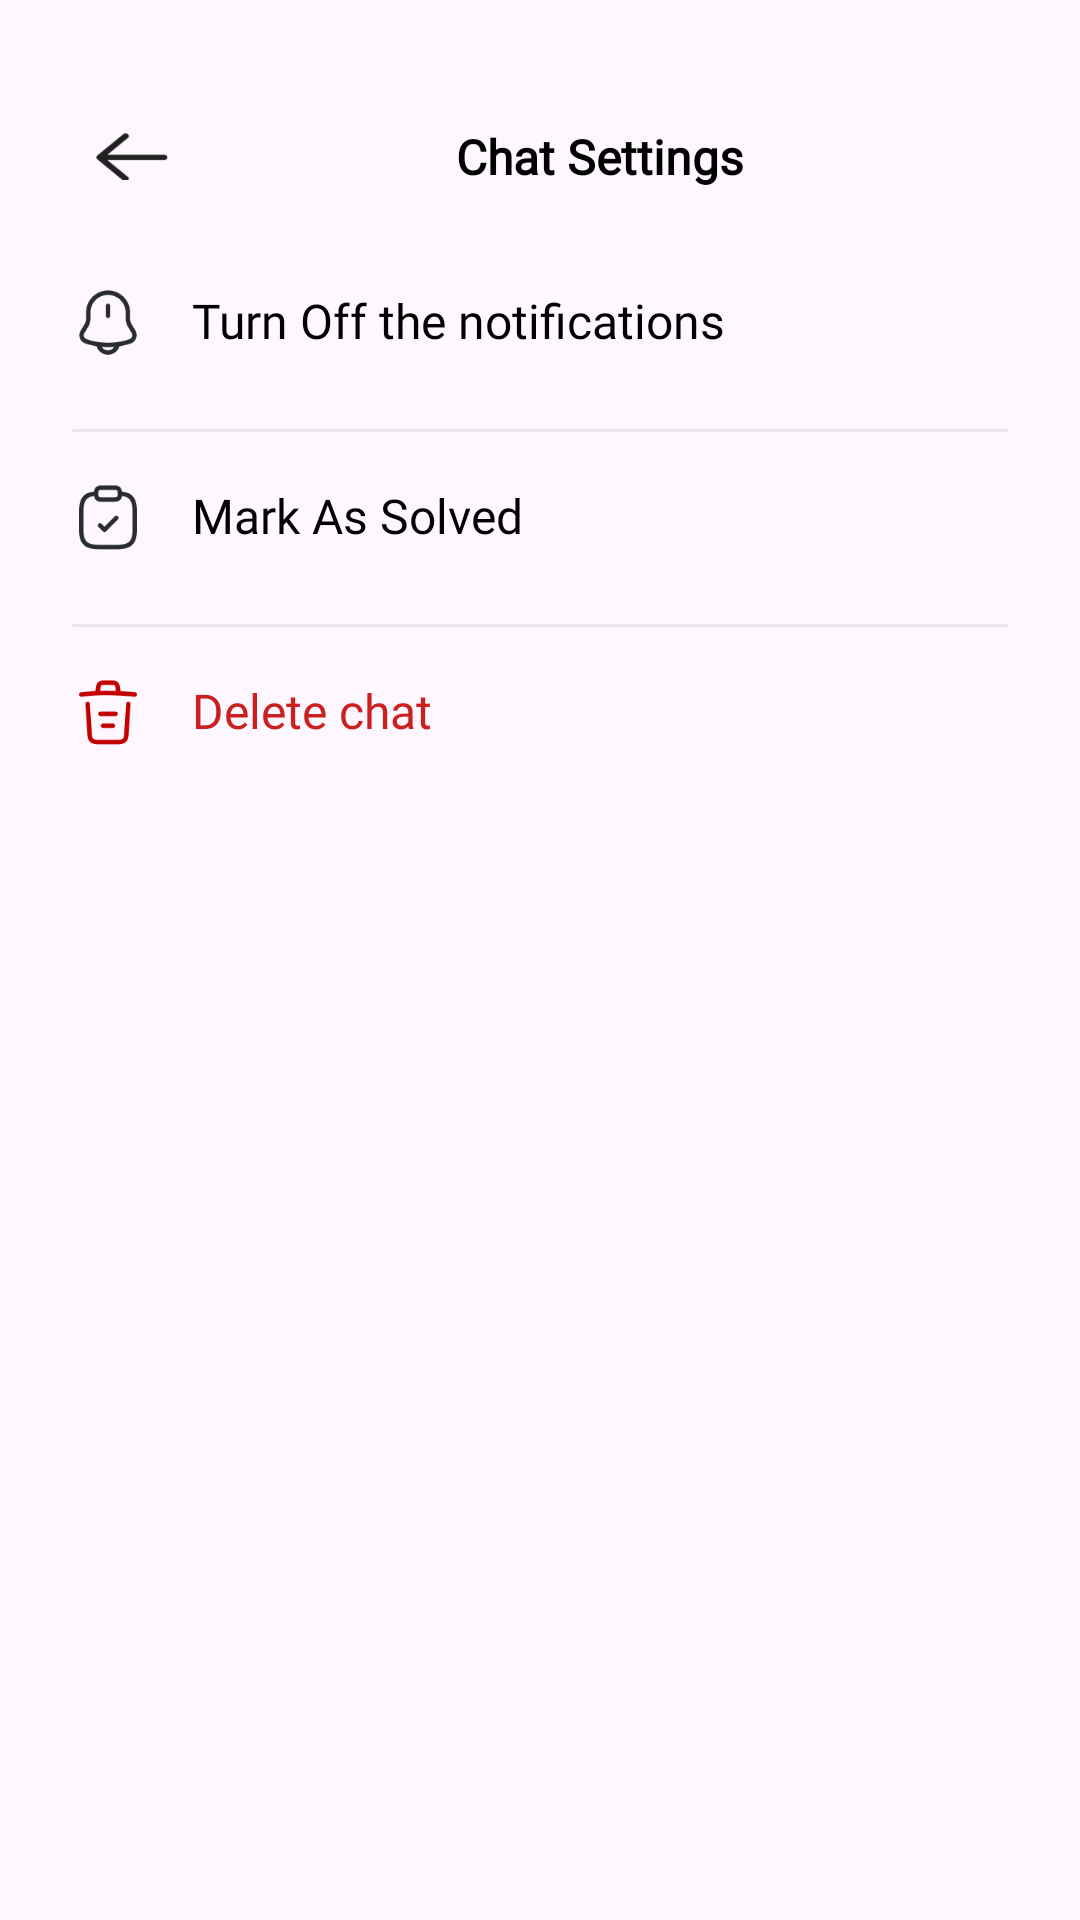

Where icons sit on this 1080 × 1920 app screen, as (x1, y1, x2, y2):
backk ar: (96, 133, 168, 180)
clipboard tick: (79, 485, 137, 550)
notification bing: (79, 290, 137, 355)
trash: (79, 680, 137, 745)
